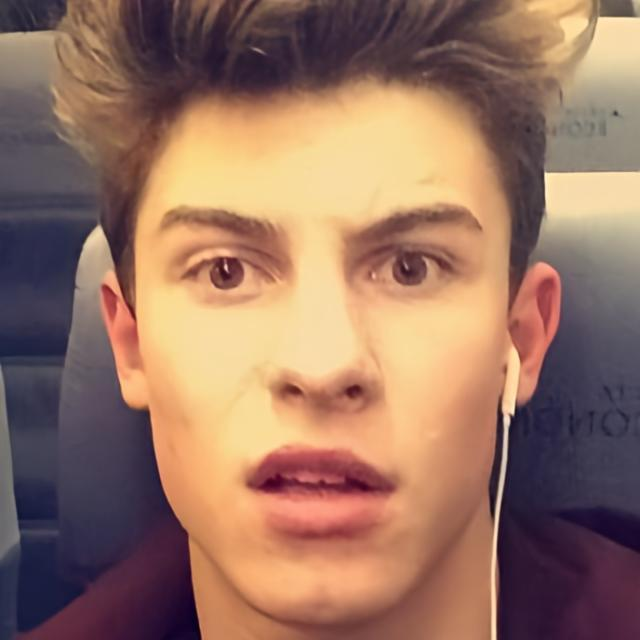disgust: (138, 78, 511, 630)
